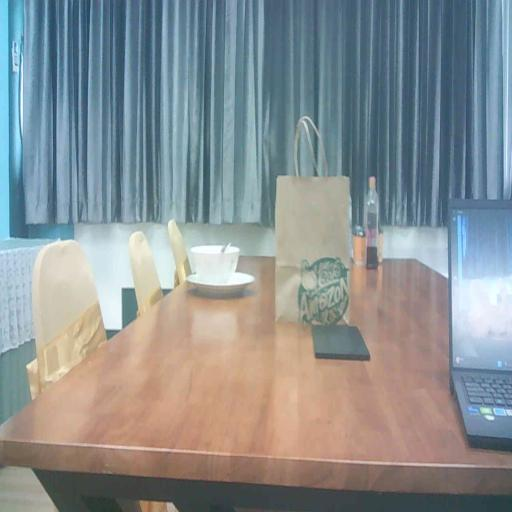bag: (272, 163, 350, 334)
